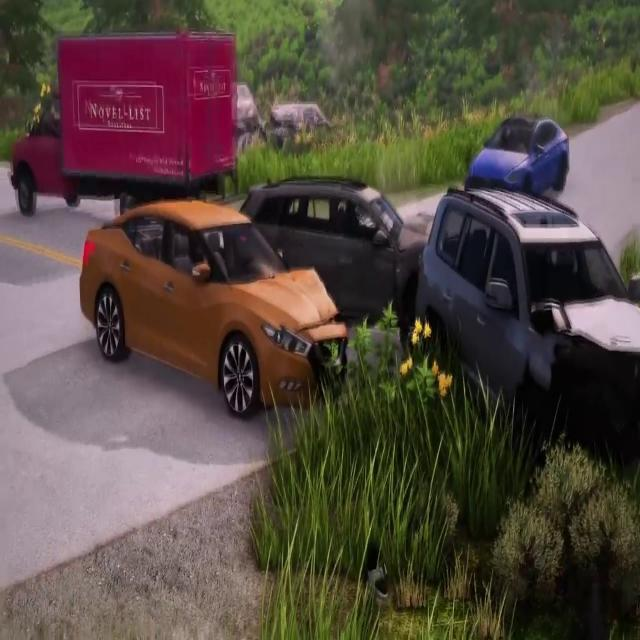accident: (81, 173, 640, 450)
